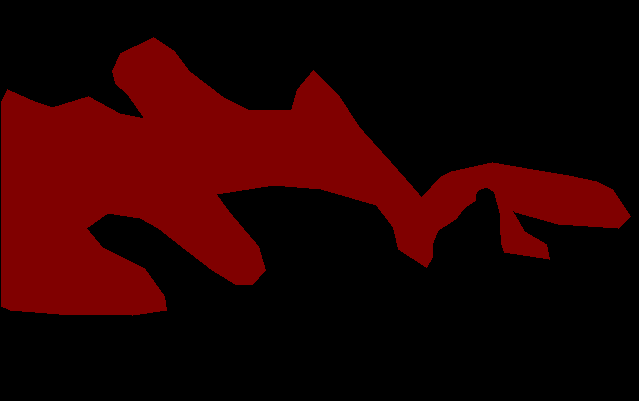fire: (1, 37, 630, 315)
